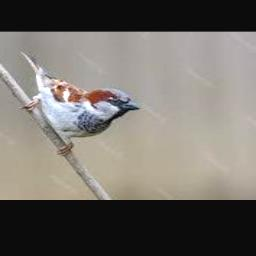Sparrow: (20, 51, 140, 156)
